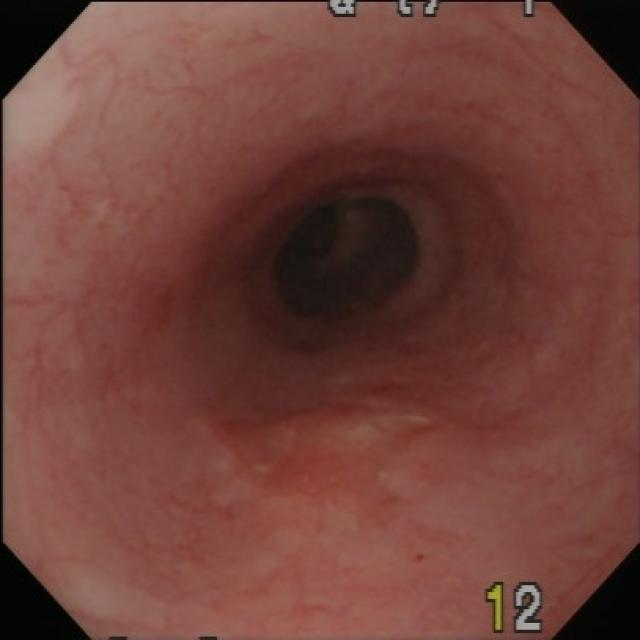A: (226, 402, 435, 503)
E: (267, 191, 429, 324)
S: (485, 581, 547, 636), (325, 3, 545, 18)
